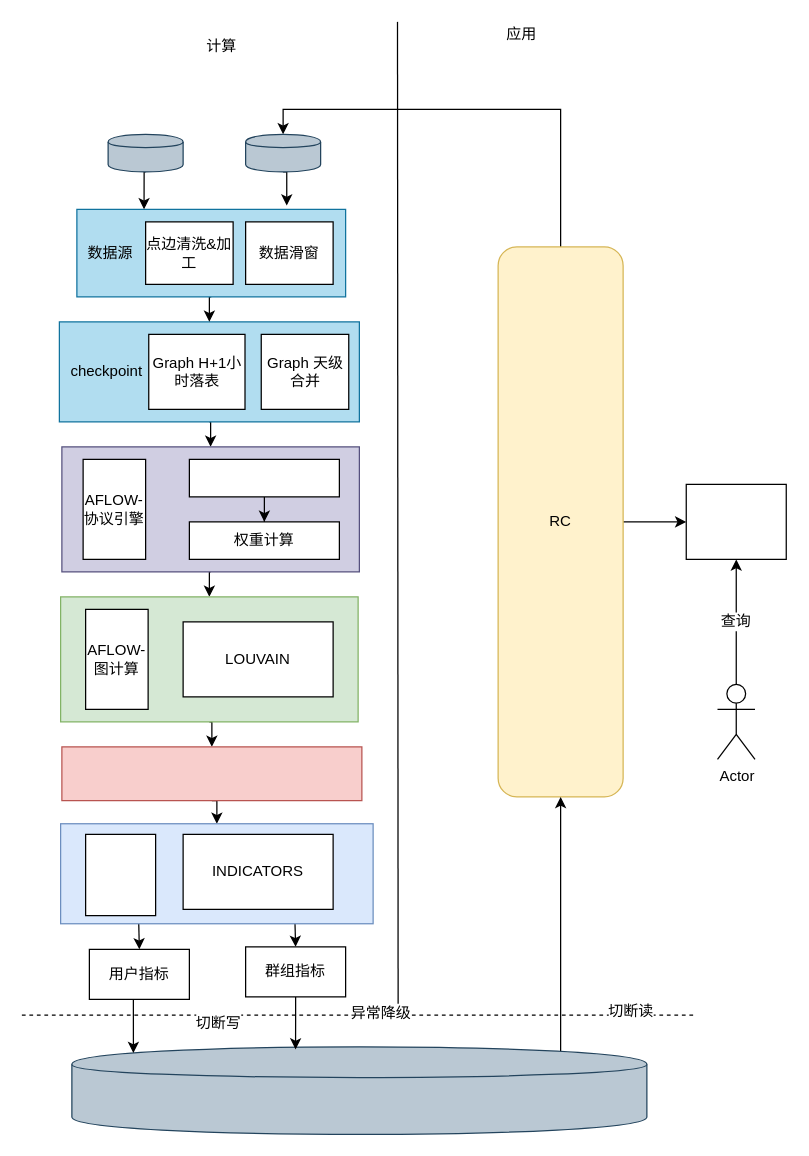
The diagram is 809 pixels wide and 1156 high, and some of its shapes have lost their labels. Each missing label, with the box of its shape:
AFLOW-SQL引擎: (84, 833, 156, 916)
cluster decision: (61, 746, 362, 801)
ODPS: (107, 133, 183, 172)
OTS: (71, 1046, 647, 1134)
SLS: (244, 133, 321, 172)
变量配置: (685, 483, 786, 559)
过滤: (188, 458, 339, 497)
